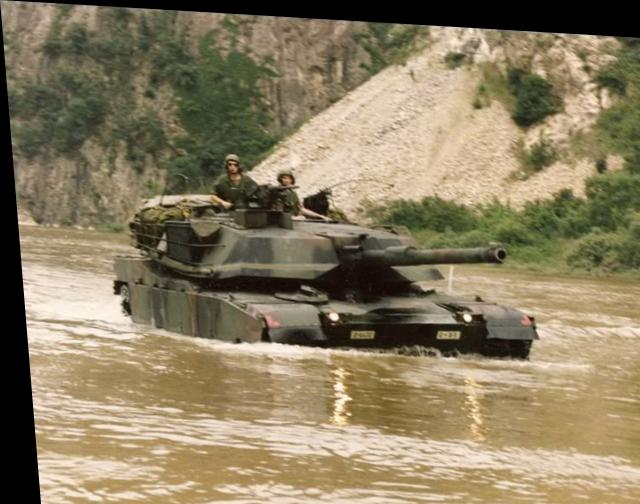tank: (99, 146, 514, 355)
